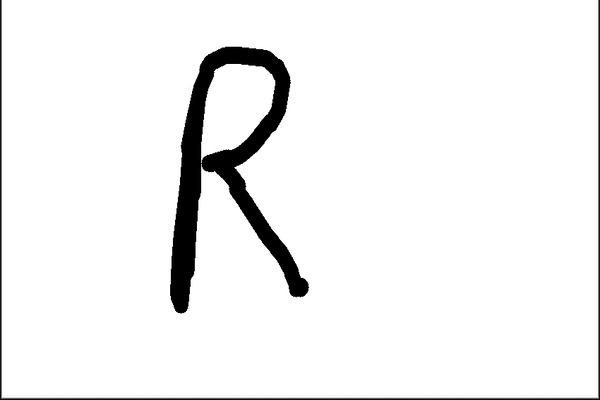R: (165, 41, 315, 323)
